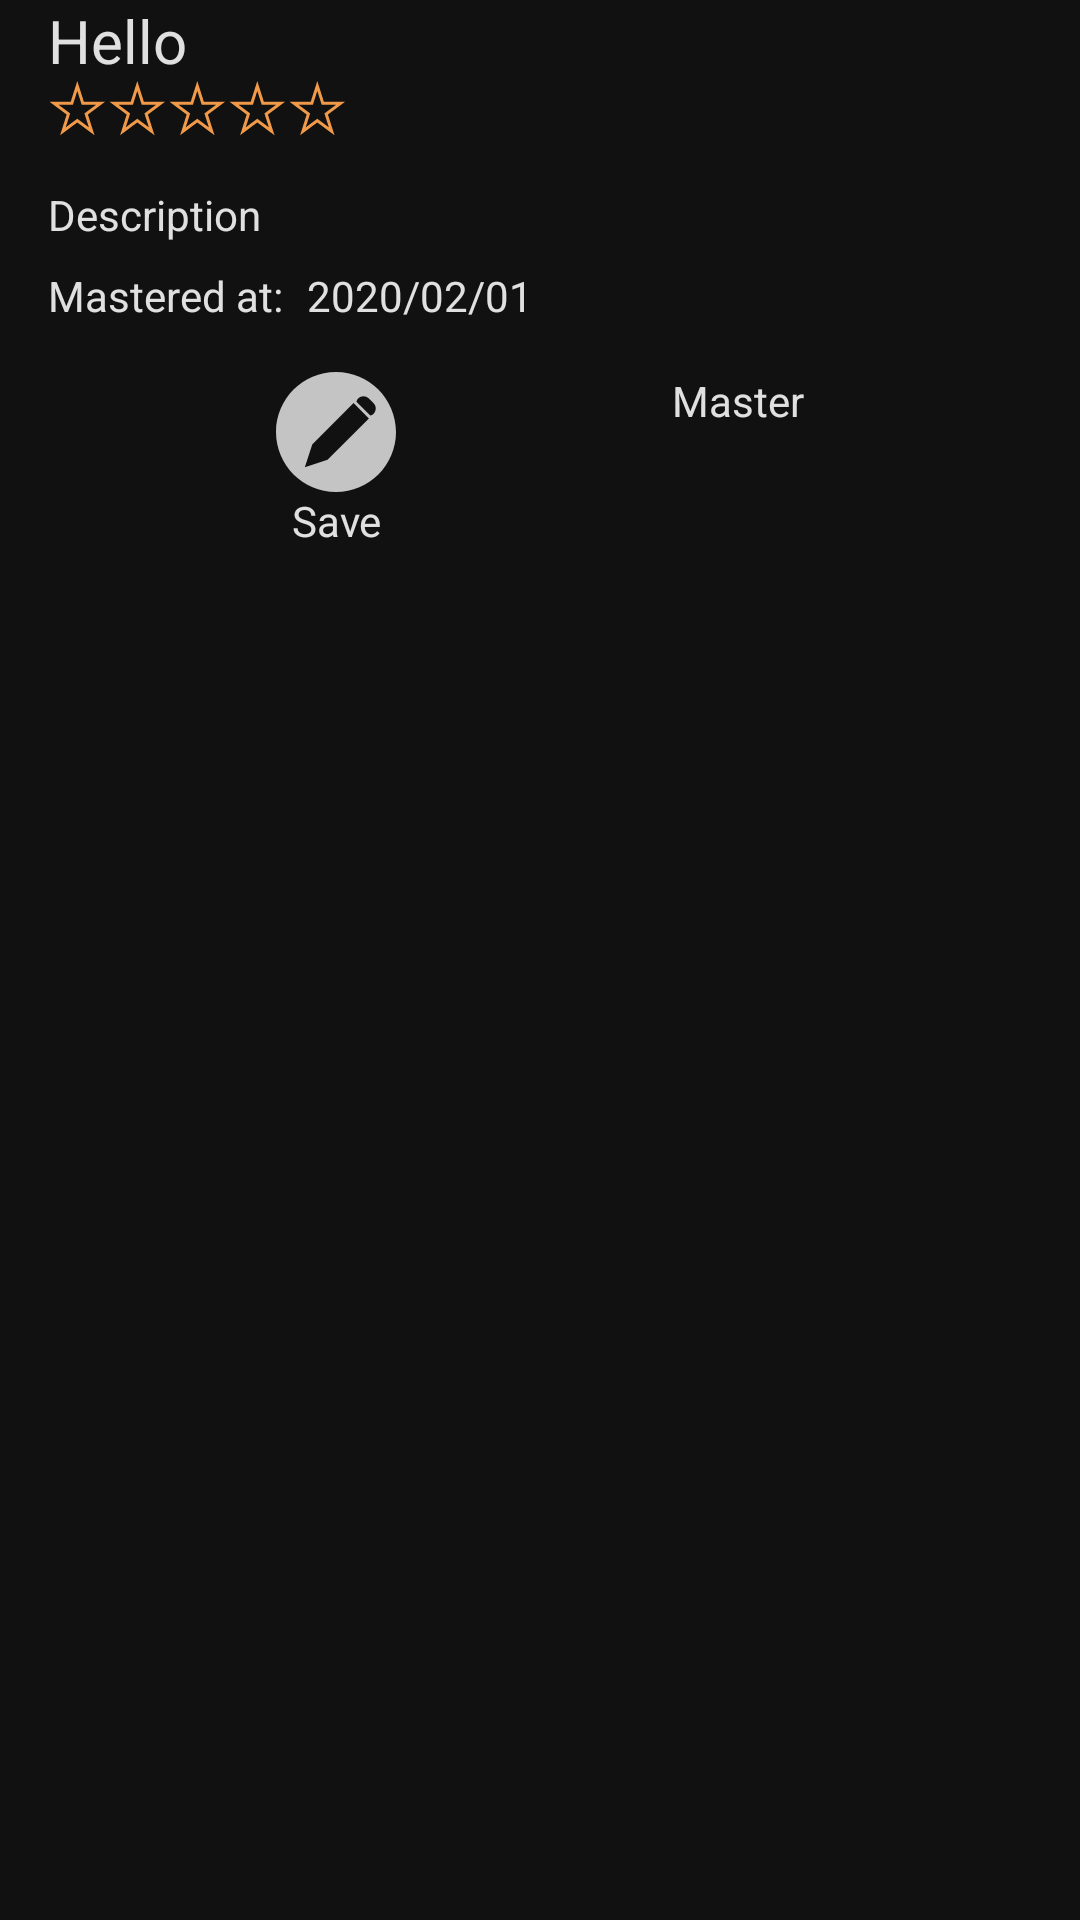

Where icons sit on this 1080w x 1920h app screen, as (x1, y1, x2, y2):
star blank: (50, 81, 105, 135), (110, 81, 165, 135), (170, 81, 225, 135), (230, 81, 285, 135), (290, 81, 345, 135)
